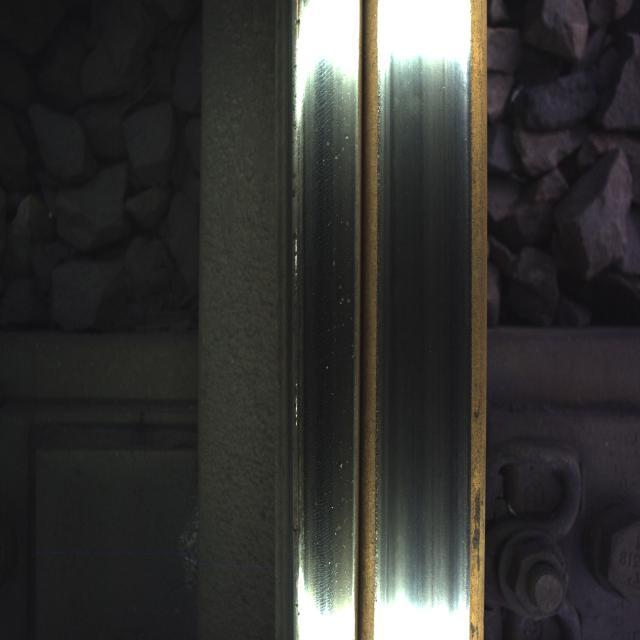break: (384, 21, 461, 562)
normal: (291, 29, 354, 592)
